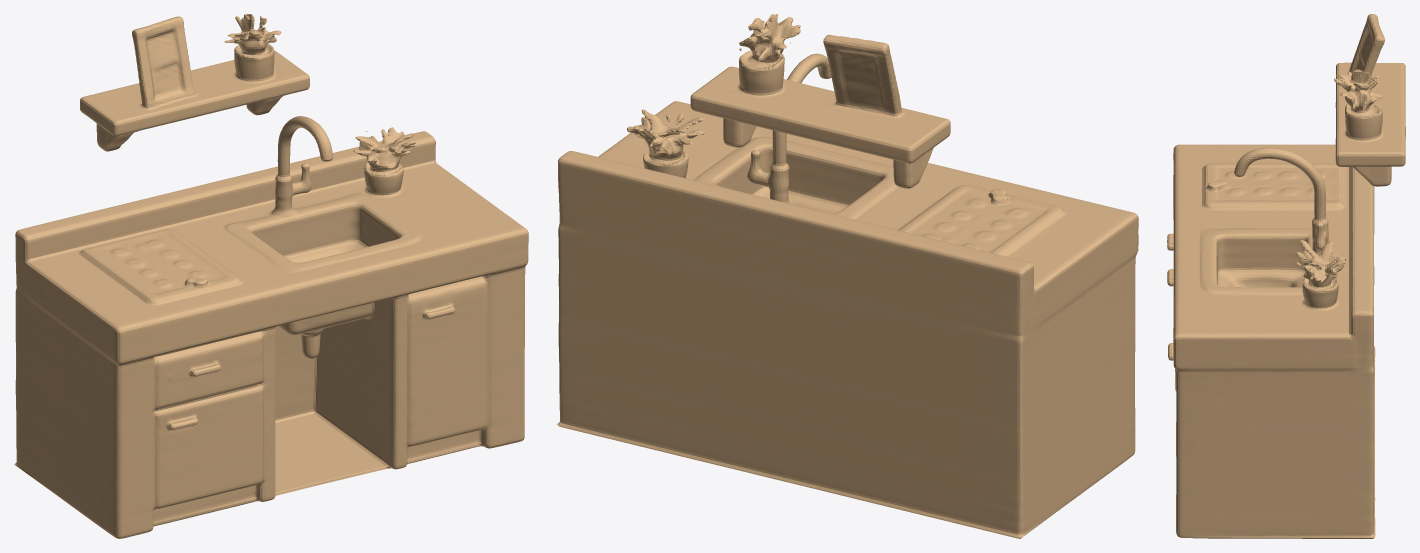
The model's file is 目标公寓_灰台面粉柜厨房_Modly低清试件.fbx.
3 views of the same model, side by side, from view 1: azimuth 30°, elevation 25°; view 2: azimuth 150°, elevation 25°; view 3: azimuth 270°, elevation 25° (orthographic). The views are drawn at different scales.
Parts seen in each view (by area): view 1: geometry_0; view 2: geometry_0; view 3: geometry_0.
Boxes of the visible parts, <box> form: geometry_0: <box>14,14,528,538</box>; geometry_0: <box>557,14,1138,538</box>; geometry_0: <box>1167,14,1405,538</box>.
Bounding box in the file's own units: 200 × 190 × 105.
